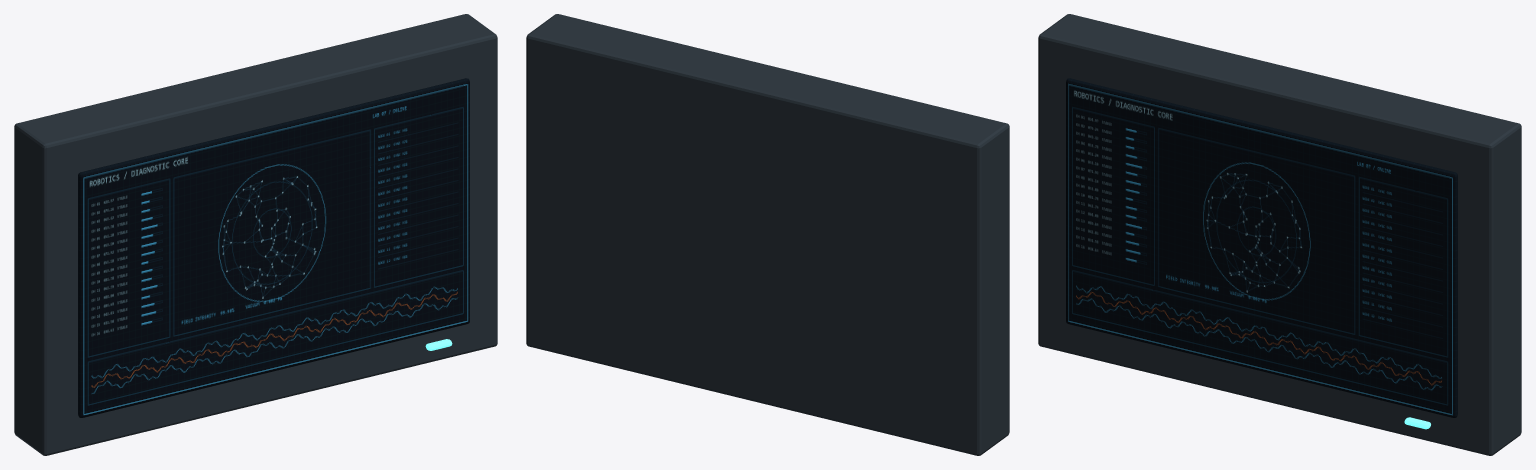
Rendered from SM_Lab_InstrumentBench__Display_00.fbx.
3 renders of one model, left to right at view 1: azimuth 30°, elevation 25°; view 2: azimuth 150°, elevation 25°; view 3: azimuth 330°, elevation 25°, orthographic.
Visible parts, largest first — view 1: SM_Lab_InstrumentBench__Display_00; view 2: SM_Lab_InstrumentBench__Display_00; view 3: SM_Lab_InstrumentBench__Display_00.
Part boxes in pixels (x1,y1,x2,y2): SM_Lab_InstrumentBench__Display_00: [14, 14, 497, 455]; SM_Lab_InstrumentBench__Display_00: [526, 14, 1009, 455]; SM_Lab_InstrumentBench__Display_00: [1038, 14, 1521, 455].
Size of the model in its own units: 46.5 by 7.2 by 30.5.
